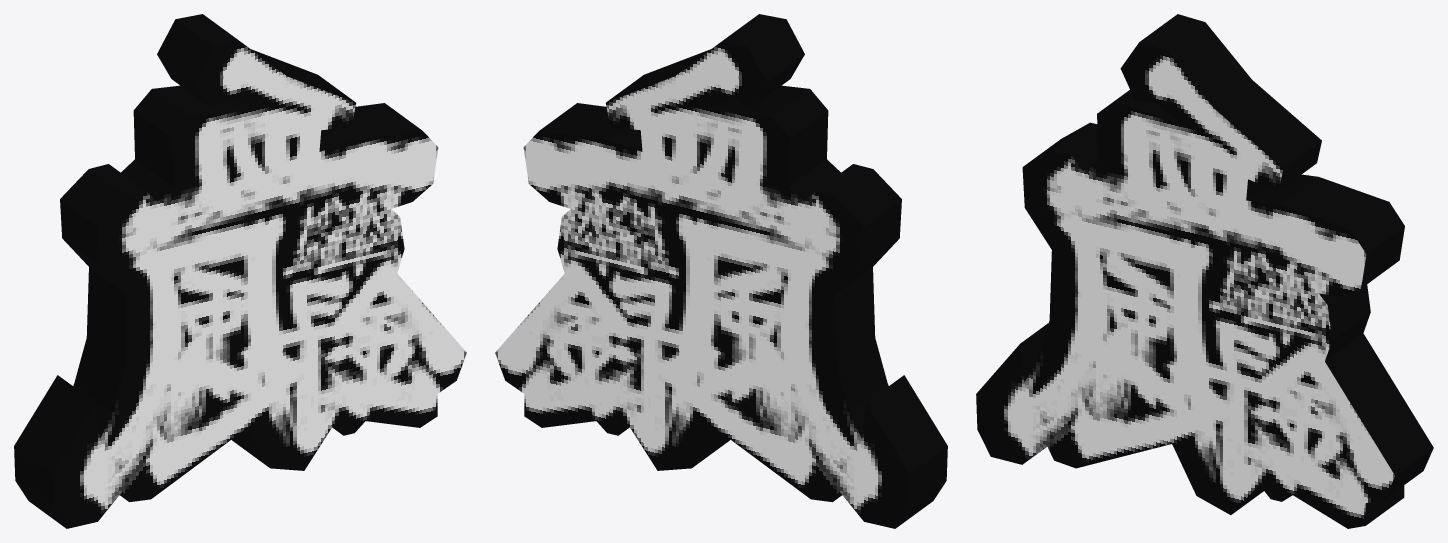
Rendered from ps2_save-icons_tokyomajingakuenkaihoujoukefurokou.glb.
3 renders of one model, left to right at view 1: azimuth 30°, elevation 25°; view 2: azimuth 150°, elevation 25°; view 3: azimuth 330°, elevation 25°, orthographic.
Visible parts, largest first — view 1: tmg2.ico; view 2: tmg2.ico; view 3: tmg2.ico.
Boxes of the visible parts, box(x1,y1,x2,y2) form: tmg2.ico: box(14, 14, 466, 528); tmg2.ico: box(495, 14, 947, 528); tmg2.ico: box(976, 14, 1433, 528).
Size of the model in its own units: 4.86 by 5 by 0.7754.
Materials: 1 (1 with a texture image).
